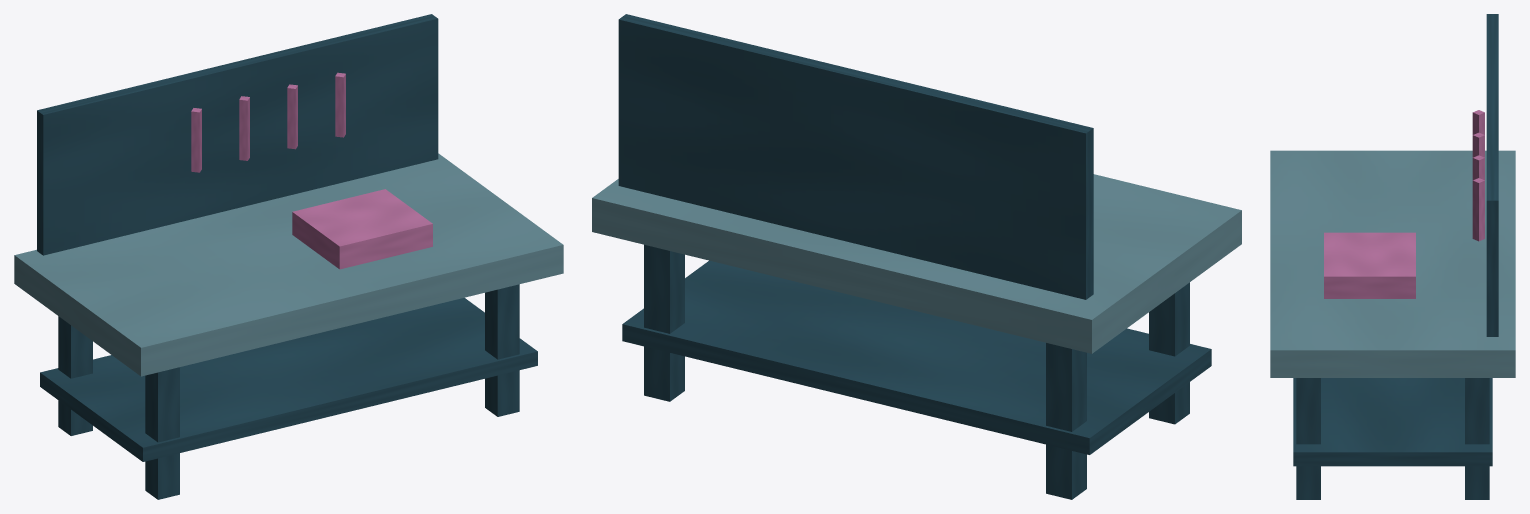
File: atlas100-s069-a06.lod2.glb
3 views of the same model, side by side, from view 1: azimuth 30°, elevation 25°; view 2: azimuth 150°, elevation 25°; view 3: azimuth 270°, elevation 25° (orthographic). The views are drawn at different scales.
Visible parts, largest first — view 1: atlas100-s069-a06:part-004, atlas100-s069-a06:part-006, atlas100-s069-a06:part-005, atlas100-s069-a06:part-012, atlas100-s069-a06:part-003, atlas100-s069-a06:part-001, atlas100-s069-a06:part-000, atlas100-s069-a06:part-008, atlas100-s069-a06:part-009, atlas100-s069-a06:part-010, atlas100-s069-a06:part-011; view 2: atlas100-s069-a06:part-006, atlas100-s069-a06:part-005, atlas100-s069-a06:part-004, atlas100-s069-a06:part-000, atlas100-s069-a06:part-002, atlas100-s069-a06:part-001; view 3: atlas100-s069-a06:part-004, atlas100-s069-a06:part-005, atlas100-s069-a06:part-012, atlas100-s069-a06:part-006, atlas100-s069-a06:part-002, atlas100-s069-a06:part-003, atlas100-s069-a06:part-011, atlas100-s069-a06:part-009, atlas100-s069-a06:part-010, atlas100-s069-a06:part-008.
Boxes of the visible parts, box(x1,y1,x2,y2) form: atlas100-s069-a06:part-004: box(14, 153, 563, 376); atlas100-s069-a06:part-006: box(37, 14, 438, 255); atlas100-s069-a06:part-005: box(40, 297, 537, 461); atlas100-s069-a06:part-012: box(292, 189, 432, 269); atlas100-s069-a06:part-003: box(485, 284, 519, 416); atlas100-s069-a06:part-001: box(145, 367, 179, 499); atlas100-s069-a06:part-000: box(58, 316, 92, 435); atlas100-s069-a06:part-008: box(191, 108, 201, 172); atlas100-s069-a06:part-009: box(239, 96, 249, 160); atlas100-s069-a06:part-010: box(287, 84, 297, 149); atlas100-s069-a06:part-011: box(335, 72, 345, 137); atlas100-s069-a06:part-006: box(618, 14, 1093, 299); atlas100-s069-a06:part-005: box(622, 260, 1211, 454); atlas100-s069-a06:part-004: box(592, 174, 1241, 353); atlas100-s069-a06:part-000: box(1046, 343, 1086, 499); atlas100-s069-a06:part-002: box(644, 244, 684, 401); atlas100-s069-a06:part-001: box(1149, 282, 1189, 424); atlas100-s069-a06:part-004: box(1270, 150, 1515, 377); atlas100-s069-a06:part-005: box(1293, 378, 1492, 466); atlas100-s069-a06:part-012: box(1324, 232, 1415, 298); atlas100-s069-a06:part-006: box(1486, 14, 1498, 336); atlas100-s069-a06:part-002: box(1465, 378, 1489, 499); atlas100-s069-a06:part-003: box(1296, 378, 1320, 499); atlas100-s069-a06:part-011: box(1472, 178, 1484, 241); atlas100-s069-a06:part-009: box(1472, 132, 1484, 157); atlas100-s069-a06:part-010: box(1472, 155, 1484, 180); atlas100-s069-a06:part-008: box(1472, 110, 1484, 134).
Bounding box in the file's own units: 3.08 × 2.21 × 1.6.
Materials: 3 (3 with a texture image).
